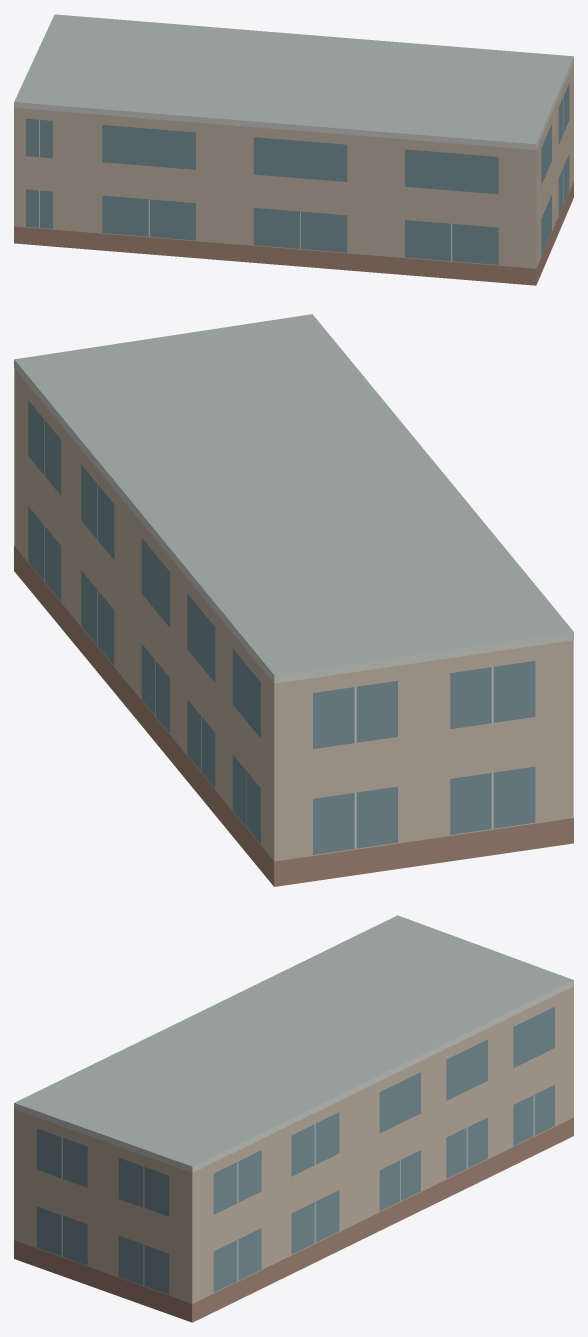
The model's file is survey-upis-32952300.glb.
The picture shows the model from 3 angles, top to bottom: view 1: azimuth 30°, elevation 25°; view 2: azimuth 150°, elevation 25°; view 3: azimuth 270°, elevation 25°; orthographic projection. The views are drawn at different scales.
Visible parts, largest first — view 1: survey-upis-32952300.tmp; view 2: survey-upis-32952300.tmp; view 3: survey-upis-32952300.tmp.
Boxes of the visible parts, box(x1,y1,x2,y2) form: survey-upis-32952300.tmp: box(14, 14, 573, 285); survey-upis-32952300.tmp: box(14, 314, 573, 886); survey-upis-32952300.tmp: box(14, 915, 573, 1322).
Bounding box in the file's own units: 21.09 × 6.1 × 19.85.
